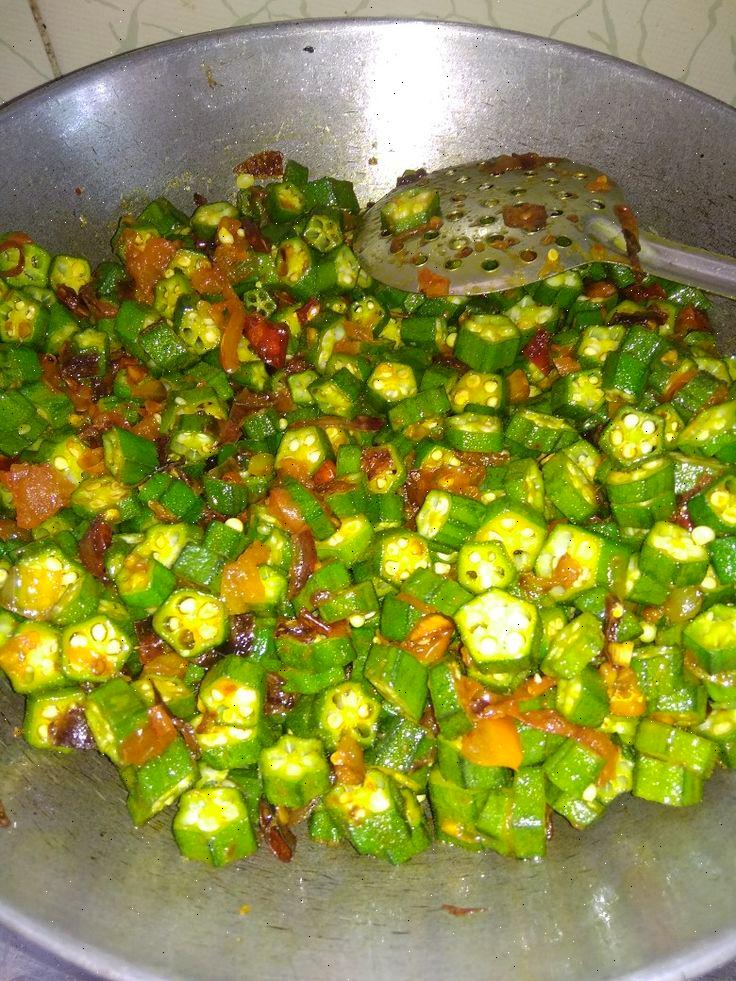bhindi: (4, 289, 736, 775)
